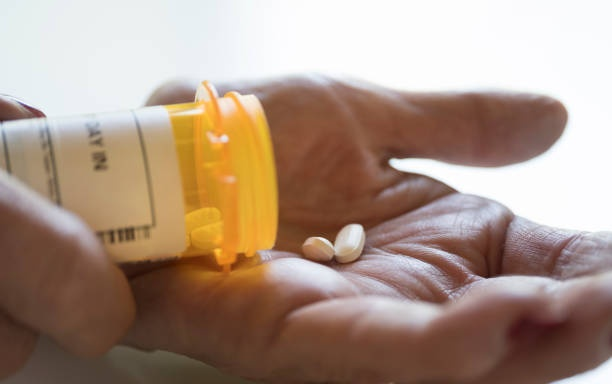pills: (334, 216, 373, 263), (304, 235, 337, 264)
